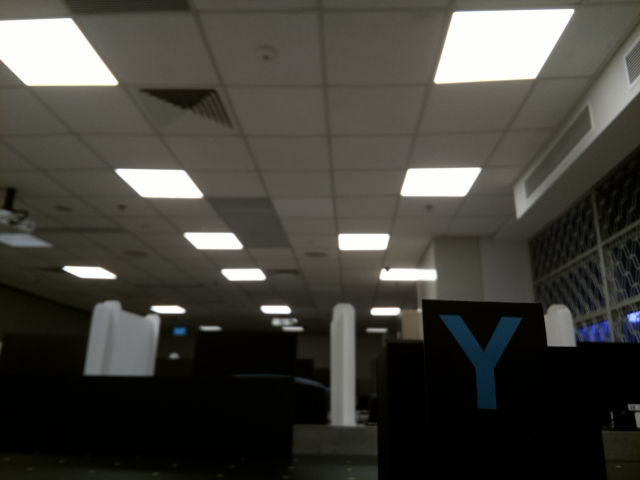y: (434, 309, 534, 410)
